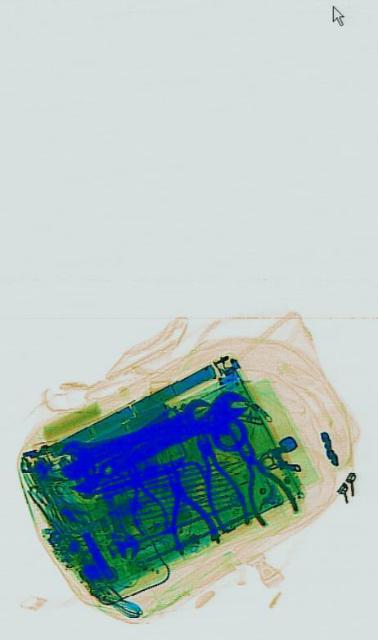Pliers: (216, 402, 297, 546), (149, 445, 217, 565), (187, 421, 247, 544), (119, 463, 169, 549)
Wrench: (96, 381, 248, 492), (56, 388, 211, 482), (92, 467, 141, 568)
